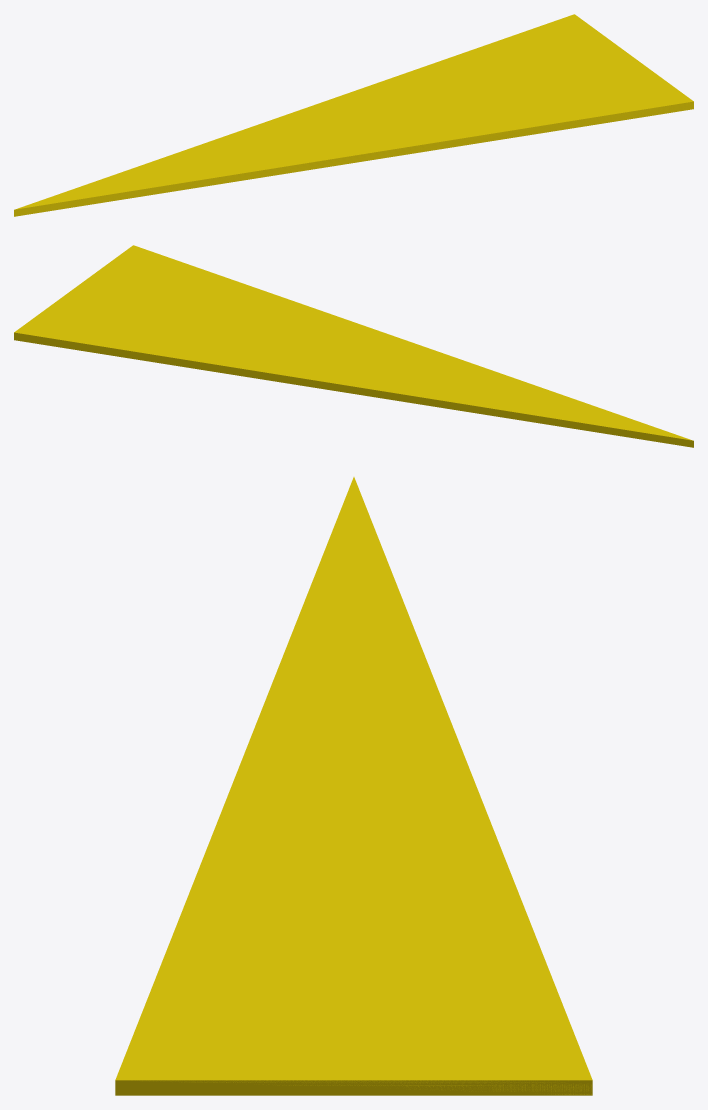
File: BasicSwordBlade.glb
3 views of the same model, one above another, from view 1: azimuth 30°, elevation 25°; view 2: azimuth 150°, elevation 25°; view 3: azimuth 270°, elevation 25° (orthographic). The views are drawn at different scales.
Visible parts, largest first — view 1: Blade; view 2: Blade; view 3: Blade.
Boxes of the visible parts, left/top/right/bottom form: Blade: left=14, top=14, right=693, bottom=216; Blade: left=14, top=245, right=693, bottom=447; Blade: left=115, top=477, right=592, bottom=1095.
Bounding box in the file's own units: 0.6 × 0.0071 × 0.2.
